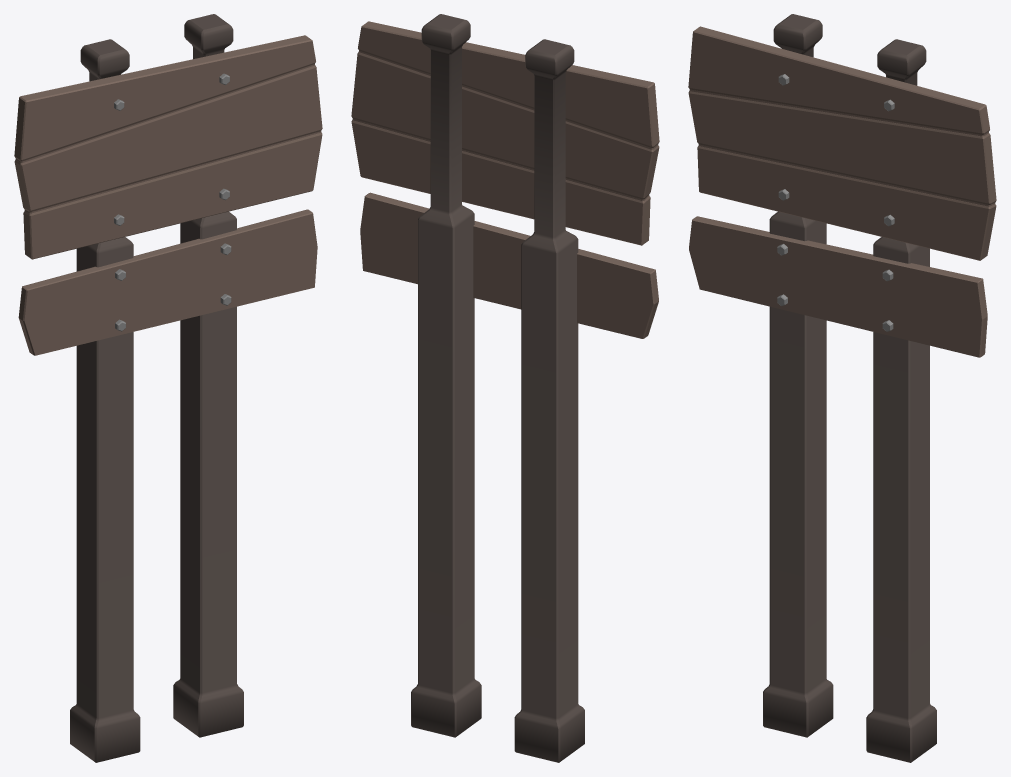
File: props_73.glb
3 views of the same model, side by side, from view 1: azimuth 30°, elevation 25°; view 2: azimuth 150°, elevation 25°; view 3: azimuth 330°, elevation 25° (orthographic).
Visible parts, largest first — view 1: props_73; view 2: props_73; view 3: props_73.
Part boxes in pixels (x1,y1,x2,y2): props_73: (14, 14, 322, 762); props_73: (351, 14, 659, 762); props_73: (688, 14, 996, 762).
Size of the model in its own units: 1.17 by 2.6 by 0.204.
1 material, 1 textured.
